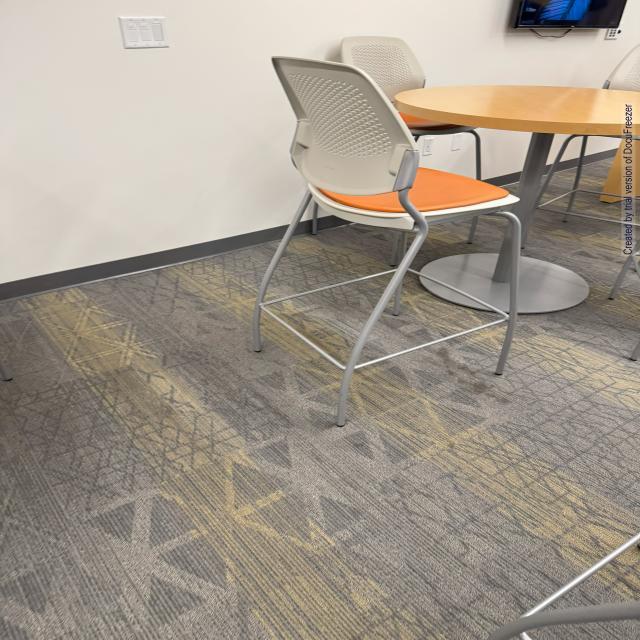chair: (256, 40, 526, 402)
